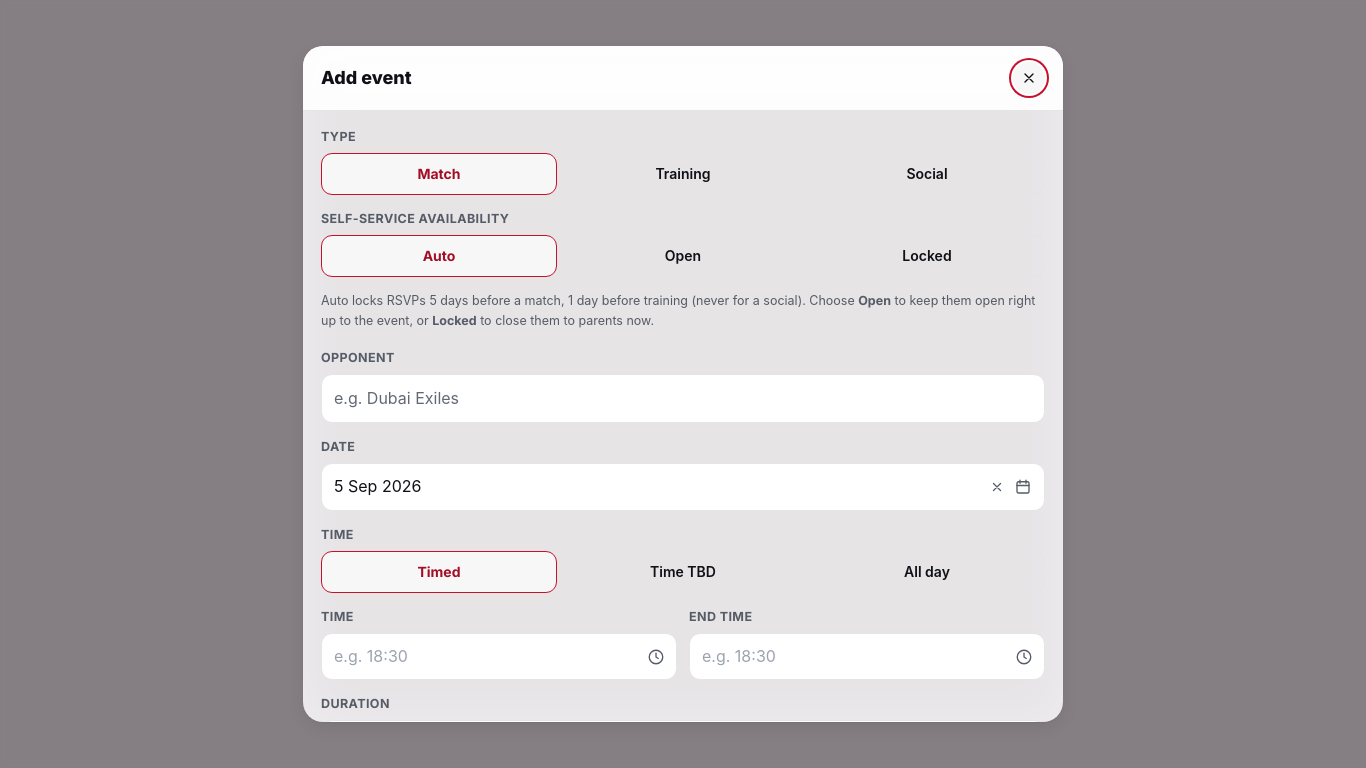
Scenario: EventForm — there is no league below U11 › ⚠️ offers no League option on a U8 fixture, and says why
This screenshot has width=1366, height=768.
Click the radio button labelled "Match" at (439, 174), box left=321, top=153, right=557, bottom=195
(page scrolled)
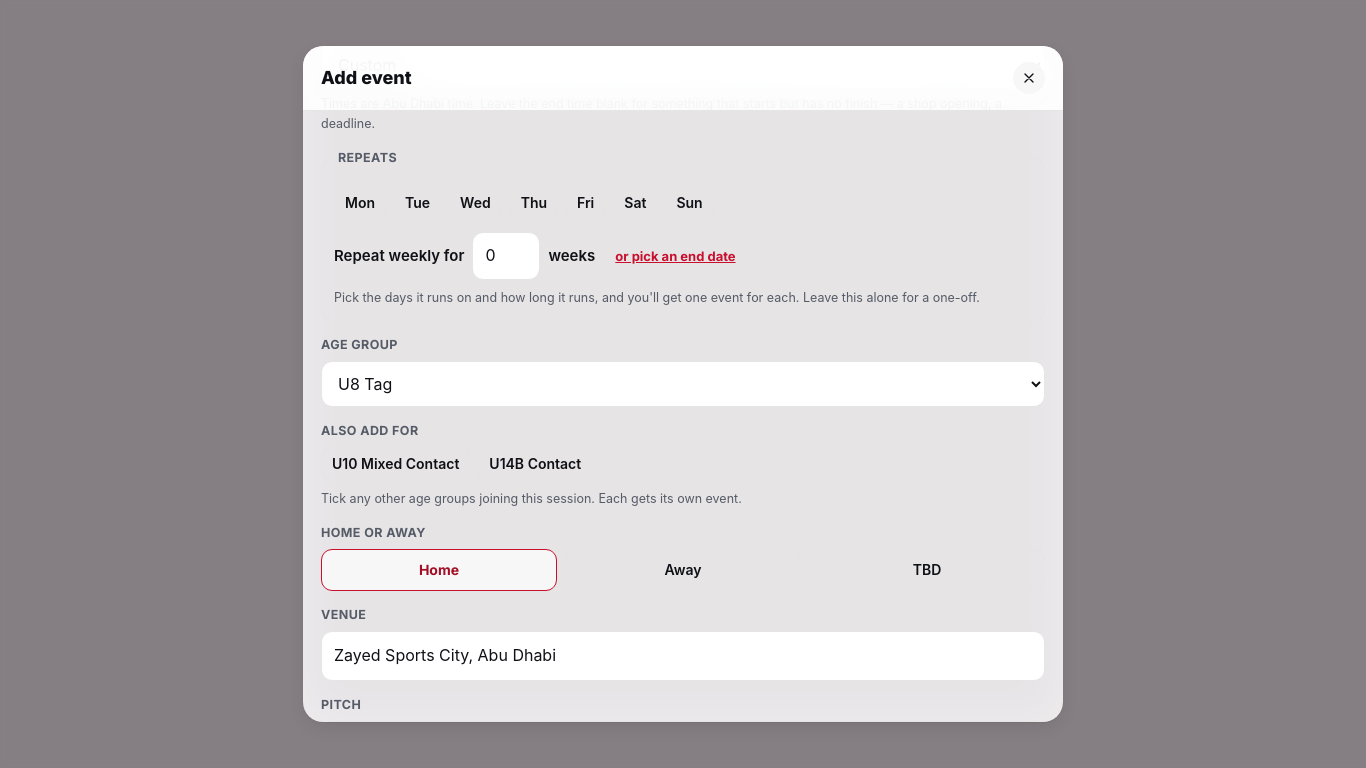
Select "U8 Tag" in the dropdown labelled "Age group" at (683, 384), box left=321, top=361, right=1045, bottom=407
(page scrolled)
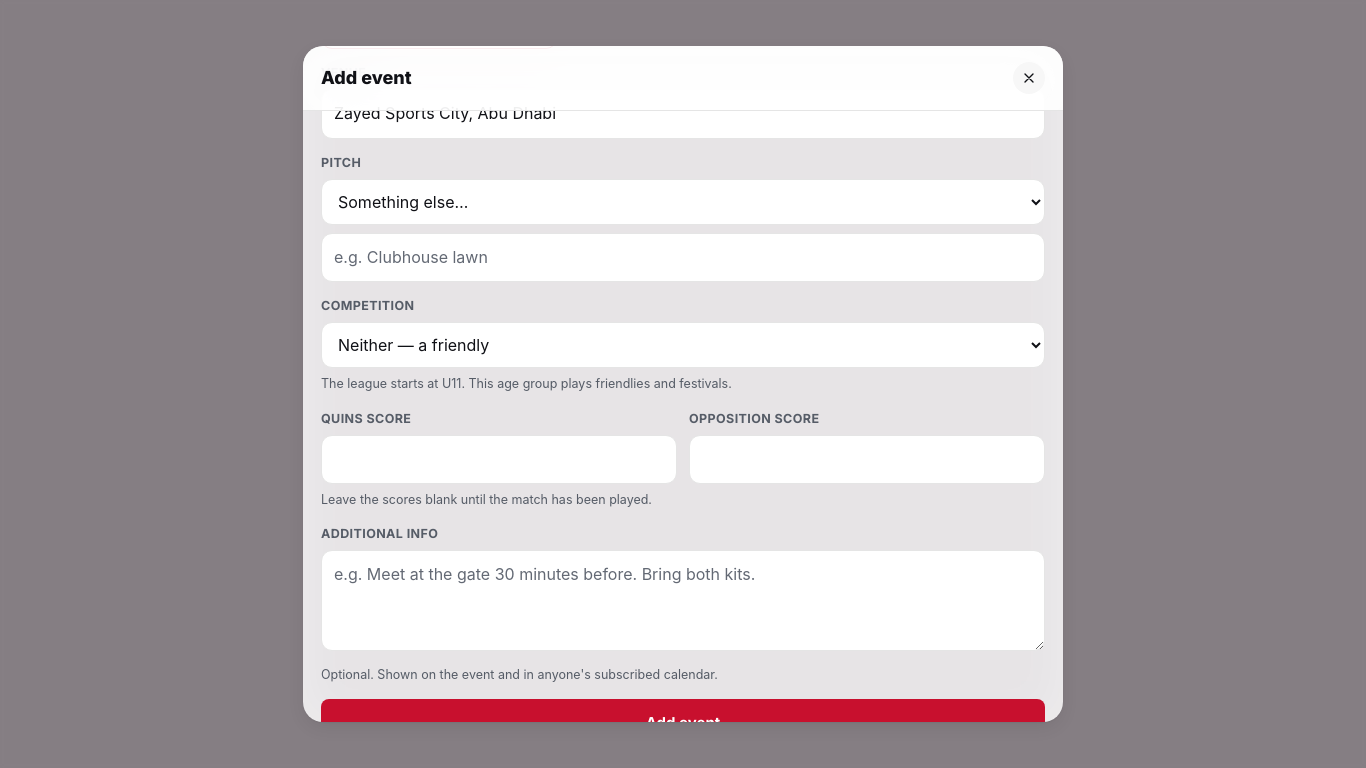
expect the text with test id "event-form-no-league" shows "starts at U11": met, box left=321, top=376, right=732, bottom=391
